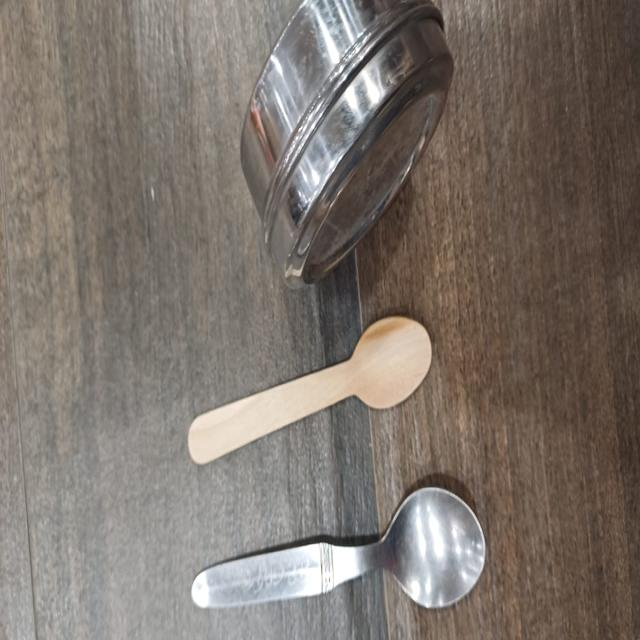Steel-NonBio: (235, 2, 454, 293), (188, 474, 487, 616)
Wooden Spoon-Bio: (188, 306, 434, 462)
